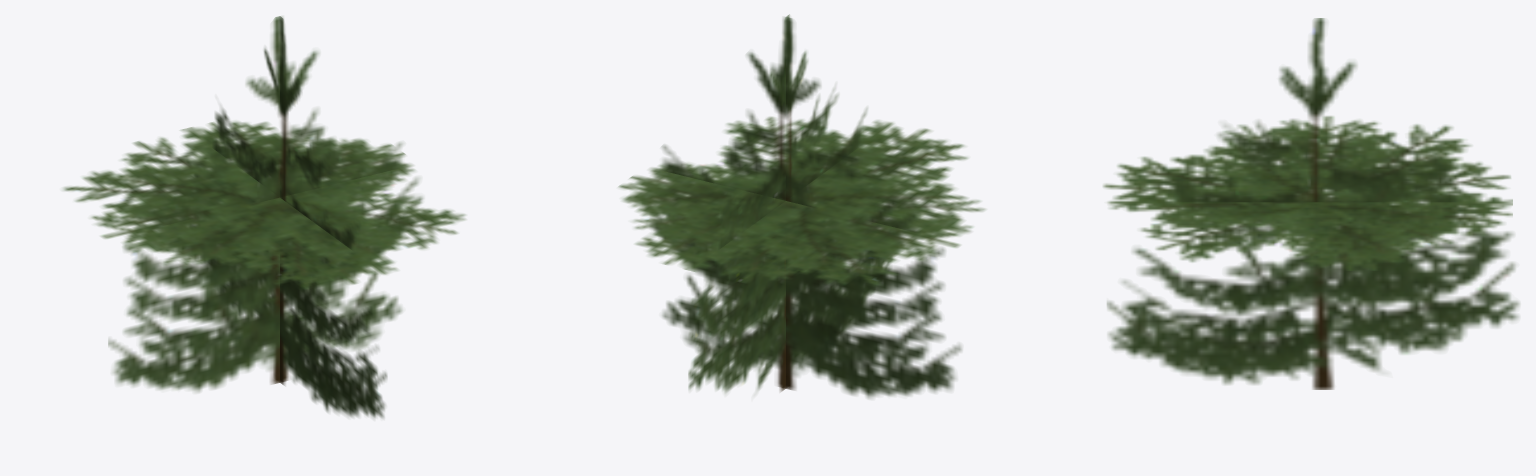
Rendered from fir-small-1-lod-3.glb.
3 renders of one model, left to right at view 1: azimuth 30°, elevation 25°; view 2: azimuth 150°, elevation 25°; view 3: azimuth 270°, elevation 25°, orthographic.
Visible parts, largest first — view 1: fir-small-1-lod-3; view 2: fir-small-1-lod-3; view 3: fir-small-1-lod-3.
Part boxes in pixels (left/top/right/bottom): fir-small-1-lod-3: left=63, top=16, right=465, bottom=418; fir-small-1-lod-3: left=618, top=14, right=985, bottom=398; fir-small-1-lod-3: left=1103, top=18, right=1519, bottom=389.
Size of the model in its own units: 1.44 by 1.57 by 1.61.
1 material, 1 textured.
